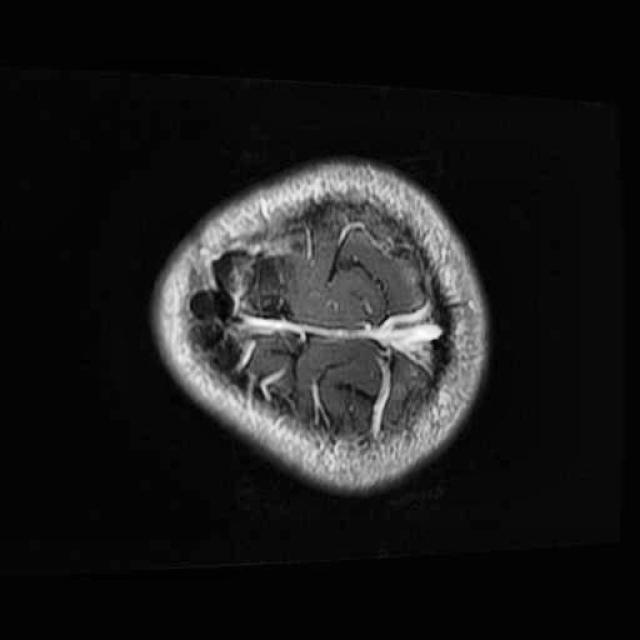Non-Tumor: (188, 240, 272, 329)
